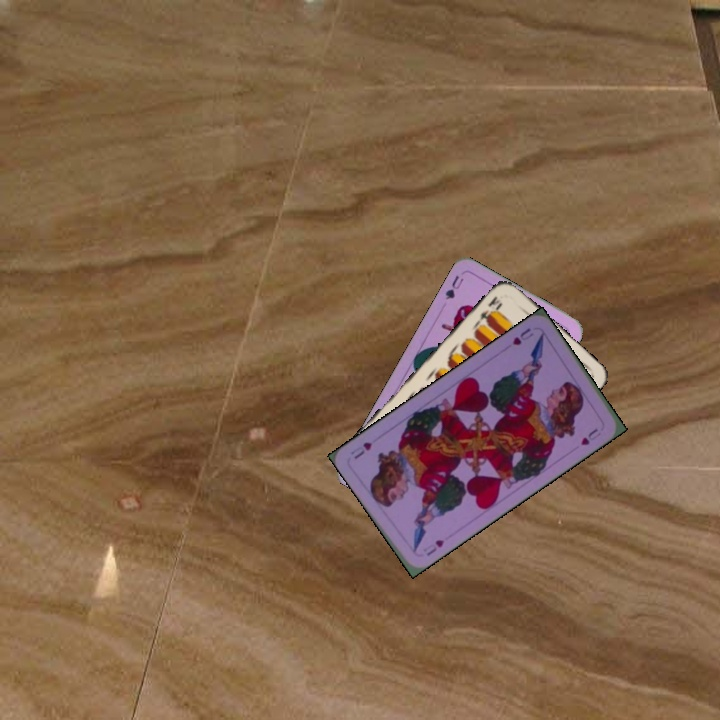E10: (473, 292, 505, 328)
GU: (441, 271, 466, 302)
HU: (508, 323, 536, 348), (419, 535, 447, 558)
